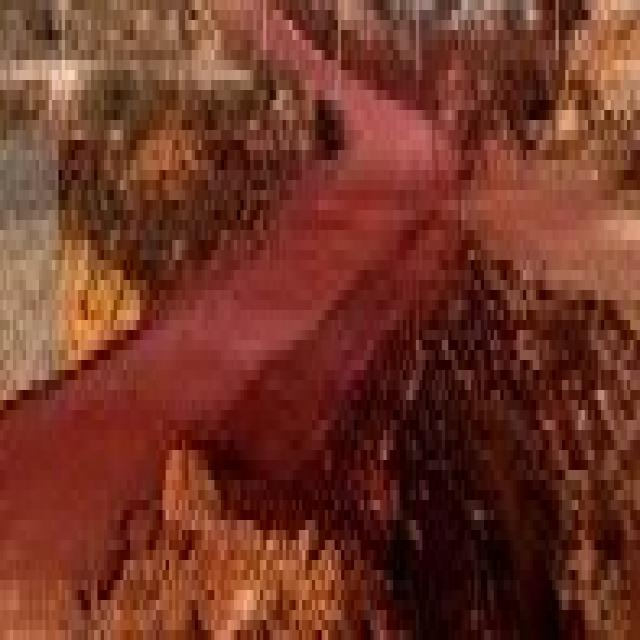Red Soil: (214, 295, 354, 445), (359, 102, 428, 326), (15, 416, 125, 536)
